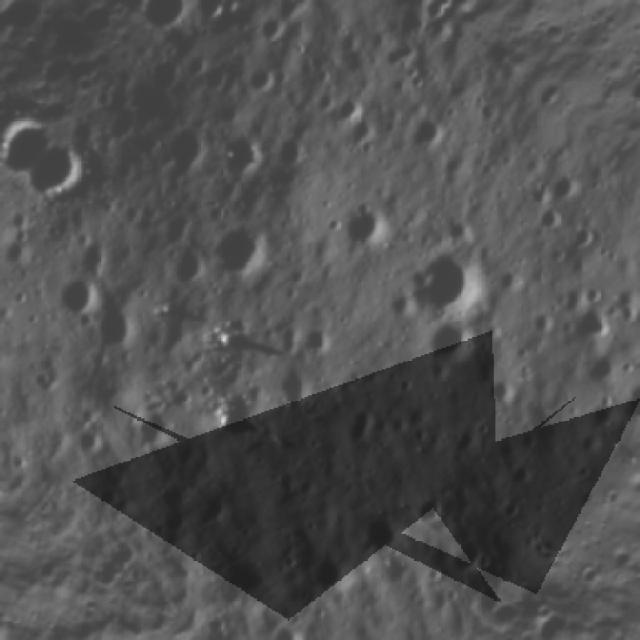crater: (386, 224, 497, 336), (16, 135, 98, 220), (196, 217, 276, 295), (325, 190, 400, 265), (203, 124, 279, 198), (72, 292, 146, 366), (410, 311, 482, 384), (114, 395, 186, 468), (262, 356, 332, 424), (155, 117, 223, 186), (41, 266, 110, 334), (296, 542, 364, 608), (157, 238, 220, 302), (348, 503, 410, 566), (334, 107, 394, 168), (561, 293, 621, 352), (398, 108, 457, 166), (331, 400, 387, 457), (456, 572, 510, 630), (62, 232, 116, 286), (435, 418, 488, 472), (475, 371, 528, 423), (575, 344, 627, 396), (264, 126, 316, 176), (404, 489, 454, 540), (326, 84, 374, 136), (296, 317, 344, 368), (560, 215, 608, 262), (525, 199, 572, 246), (538, 165, 584, 210), (248, 10, 292, 55), (237, 58, 280, 102), (611, 372, 640, 430), (269, 623, 322, 640)
